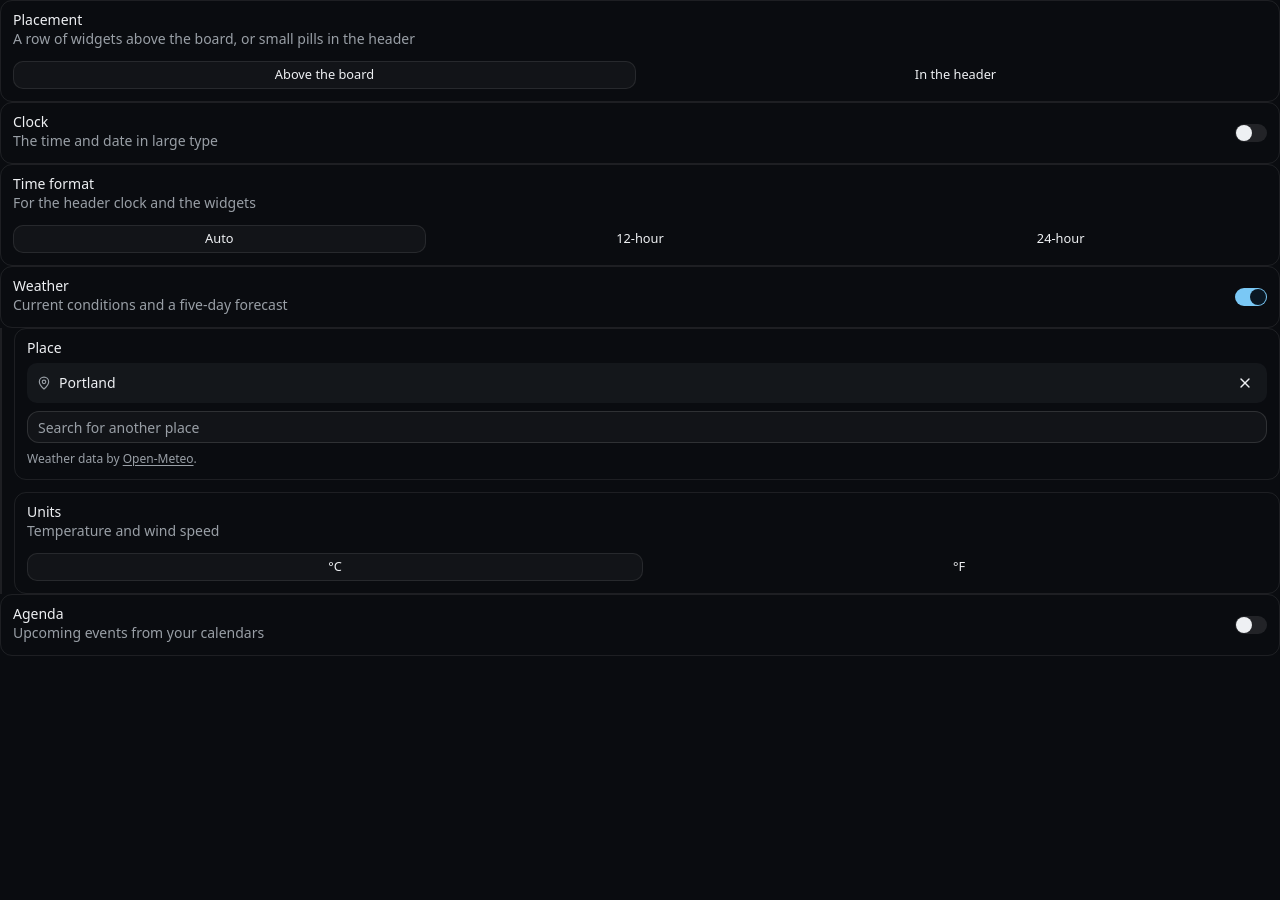
Scenario: WidgetSettings › clears the place and says when nothing matches
Click the button named "Clear the place".
click(1245, 383)  # box top-left (1231, 369), bottom-right (1259, 397)
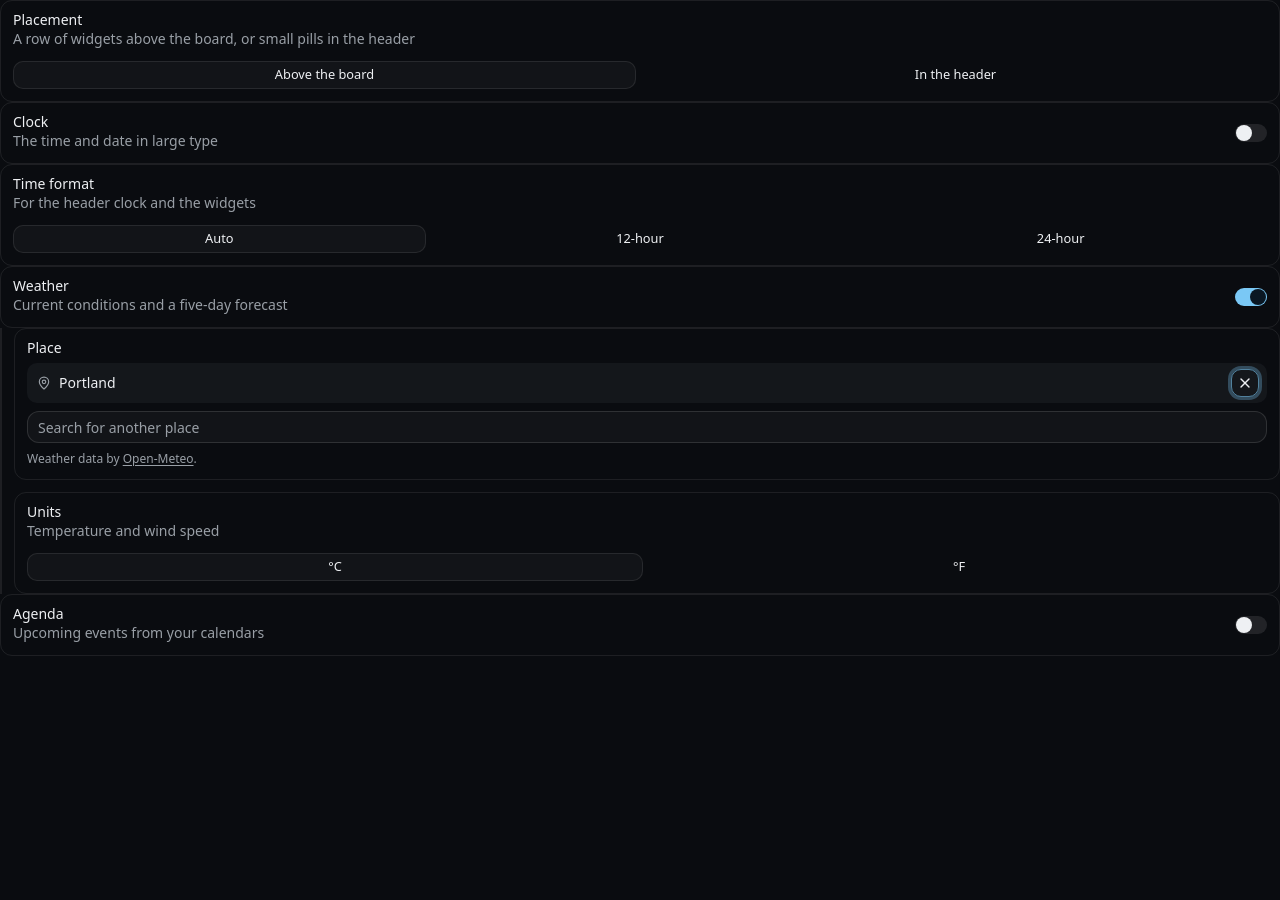
Type "zzzz" into the search field labelled "Place".
click(647, 427); type("zzzz")  # box top-left (27, 411), bottom-right (1267, 443)
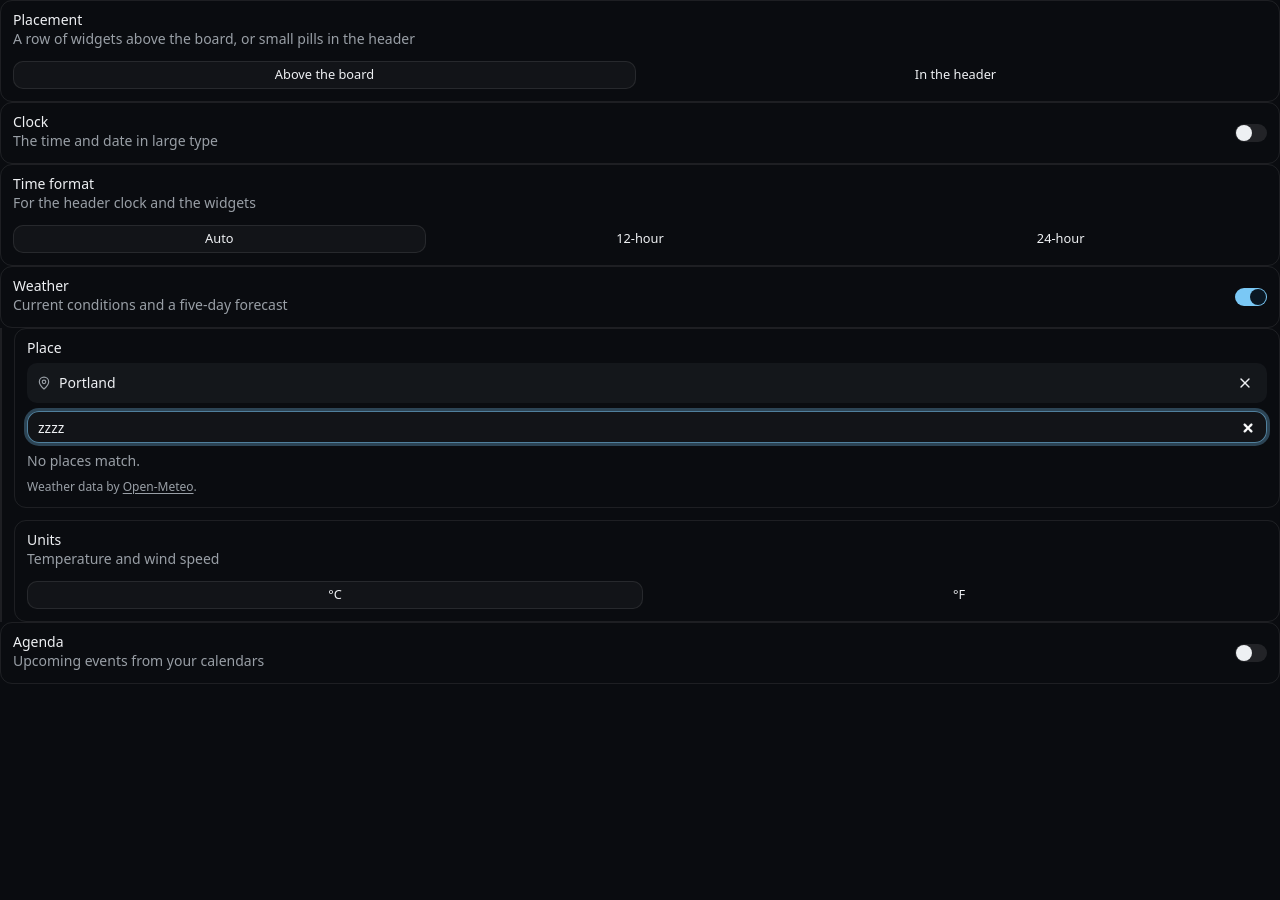
Result: the text "No places match." is shown at top-left (27, 451), bottom-right (140, 470)
